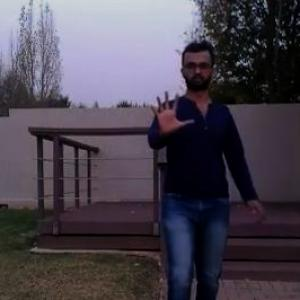follow_hand: (145, 87, 196, 136)
